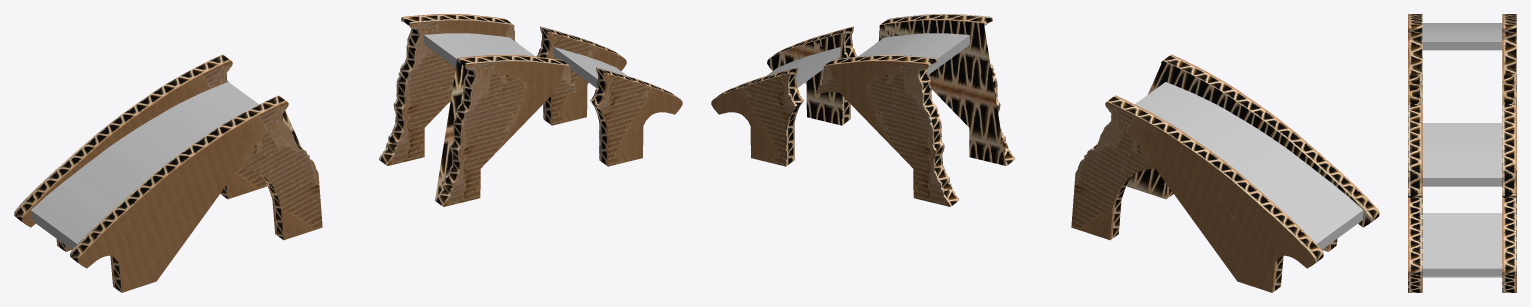
Rendered from bridgeBroken.fbx.
3 renders of one model, left to right at view 1: azimuth 30°, elevation 25°; view 2: azimuth 150°, elevation 25°; view 3: azimuth 270°, elevation 25°, orthographic. The views are drawn at different scales.
Parts seen in each view (by area): view 1: bridge broken; view 2: bridge broken; view 3: bridge broken.
Part boxes in pixels (x1,y1,x2,y2): bridge broken: [14, 14, 682, 292]; bridge broken: [711, 14, 1379, 292]; bridge broken: [1408, 14, 1516, 292].
Bounding box in the file's own units: 993 × 237 × 184.
